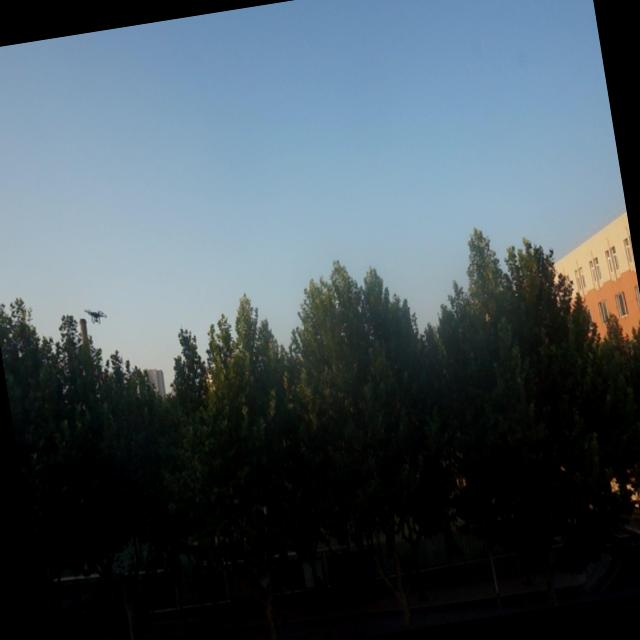drone: (82, 302, 110, 327)
